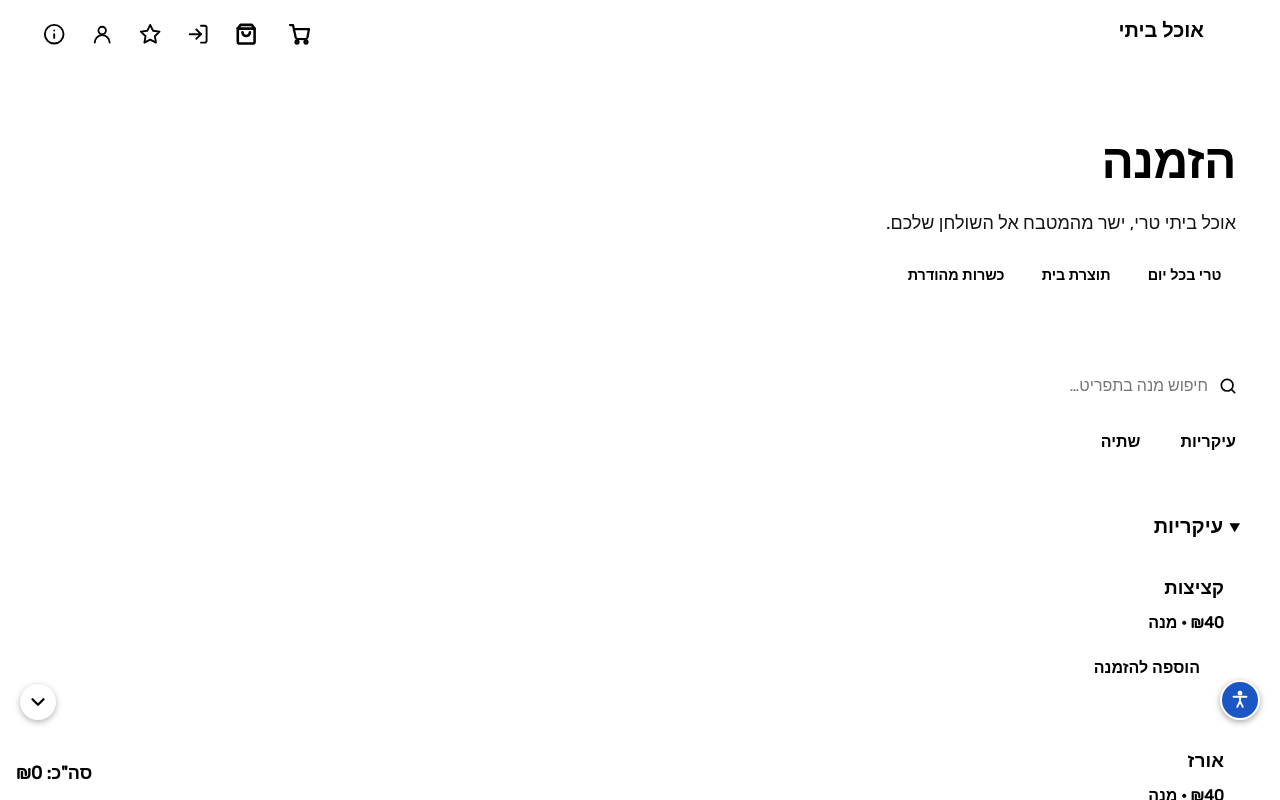
Test: The basket button › says the basket is empty before anything is chosen
The width and height of the screenshot is (1280, 800).
Click the button named "הסל שלי".
click(300, 34)  # box left=272, top=12, right=328, bottom=56
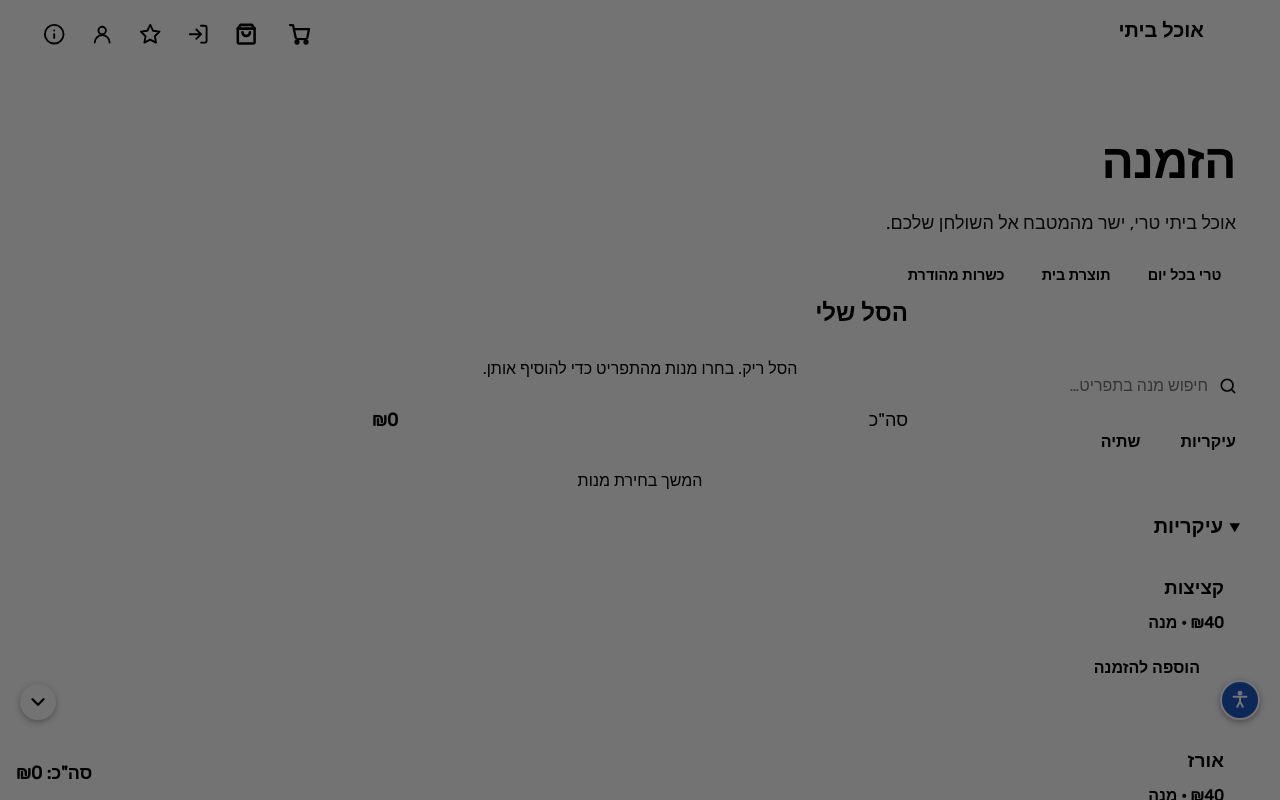
Now the text "הסל ריק. בחרו מנות מהתפריט כדי להוסיף אותן." is shown, box left=483, top=359, right=797, bottom=378
